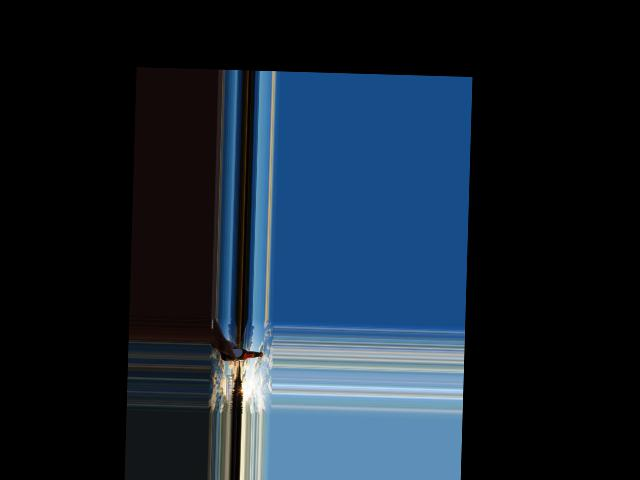beer: (223, 348, 263, 362)
